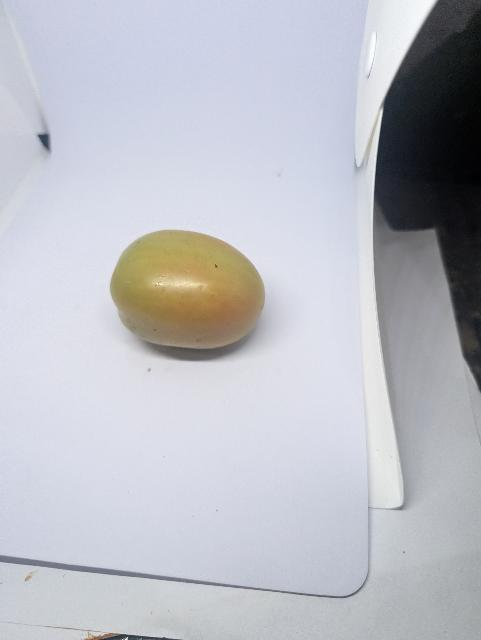breaker: (110, 218, 270, 364)
